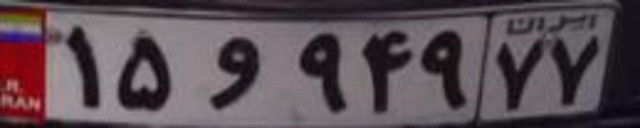1: (60, 25, 98, 108)
4: (358, 30, 410, 112)
5: (115, 29, 171, 111)
7: (551, 36, 605, 107), (493, 38, 544, 110)
9: (298, 32, 345, 111), (420, 30, 466, 109)
vav: (204, 36, 258, 110)
